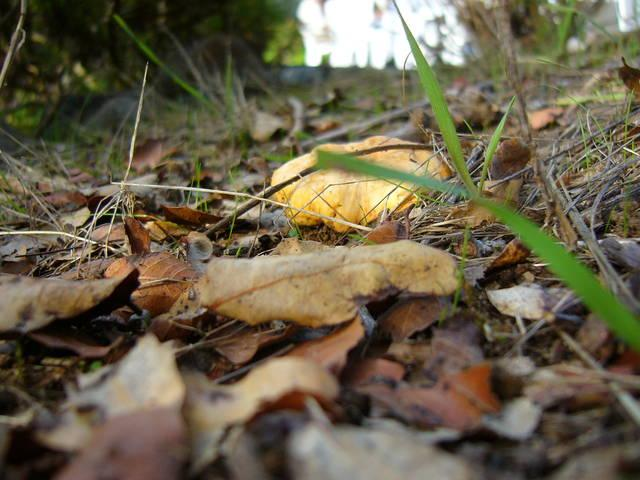edible_mushroom: (269, 134, 453, 233)
